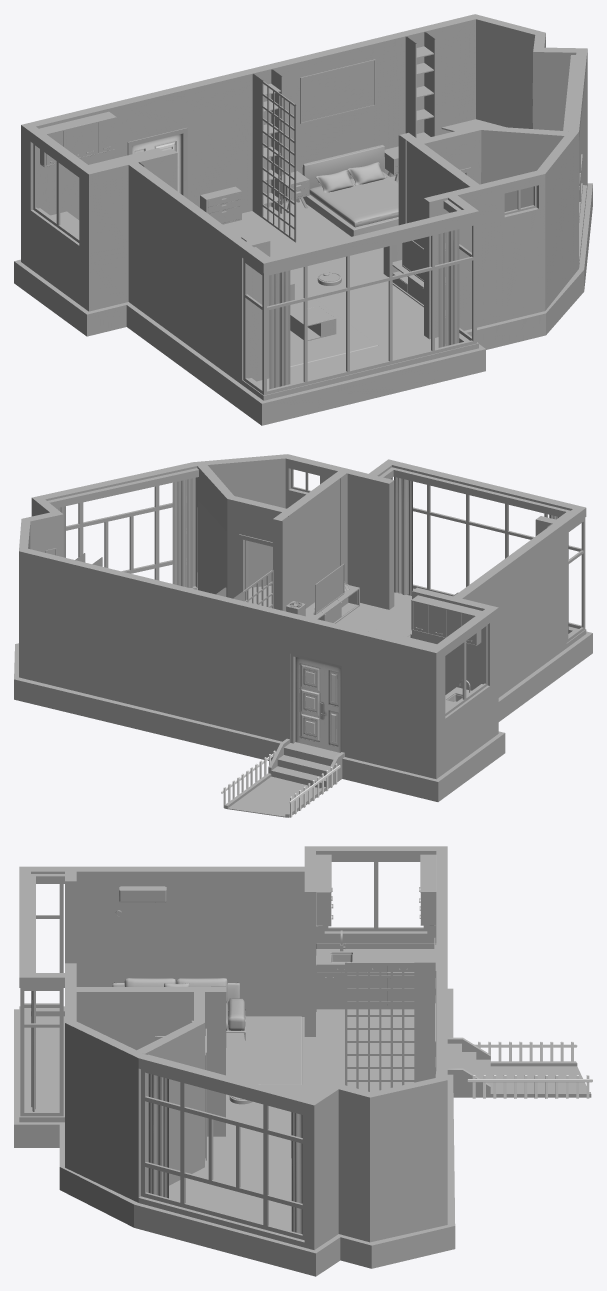
The picture shows the model from 3 angles, top to bottom: view 1: azimuth 30°, elevation 25°; view 2: azimuth 150°, elevation 25°; view 3: azimuth 270°, elevation 25°; orthographic projection. The views are drawn at different scales.
Visible parts, largest first — view 1: polySurface177, polySurface180, polySurface189, XiaoMi_156, polySurface171, polySurface190, ChuangKuang, Chuang, polySurface185, XiaoMi_181, MuGui, polySurface187 (+14 smaller); view 2: polySurface189, polySurface180, polySurface177, XiaoMi_156, ChuangKuang, polySurface187, polySurface185, KongQiJingHuaQi, XiaoMi_147, ChuangLian_ZhuangShi, ChuangLian, ChuangLian1 (+9 smaller); view 3: polySurface177, polySurface180, polySurface171, XiaoMi_156, ChuangKuang, polySurface187, polySurface185, XiaoMi_147, DiTan, GuiZi_GuiTi, MuZhaLan, Wood_ZhuangShi (+14 smaller).
Part boxes in pixels (x1=…): polySurface177: x1=258, y1=14, x2=587, y2=400; polySurface180: x1=26, y1=126, x2=270, y2=396; polySurface189: x1=21, y1=14, x2=475, y2=265; XiaoMi_156: x1=14, y1=183, x2=592, y2=425; polySurface171: x1=223, y1=176, x2=438, y2=389; polySurface190: x1=272, y1=36, x2=405, y2=174; ChuangKuang: x1=33, y1=105, x2=582, y2=395; Chuang: x1=302, y1=145, x2=398, y2=236; polySurface185: x1=419, y1=125, x2=567, y2=211; XiaoMi_181: x1=300, y1=59, x2=375, y2=123; MuGui: x1=252, y1=69, x2=282, y2=217; polySurface187: x1=400, y1=132, x2=479, y2=248; polySurface189: x1=19, y1=548, x2=441, y2=779; polySurface180: x1=412, y1=509, x2=581, y2=775; polySurface177: x1=19, y1=454, x2=586, y2=636; XiaoMi_156: x1=14, y1=631, x2=592, y2=801; ChuangKuang: x1=66, y1=469, x2=585, y2=715; polySurface187: x1=273, y1=471, x2=346, y2=610; polySurface185: x1=197, y1=465, x2=286, y2=598; KongQiJingHuaQi: x1=286, y1=601, x2=341, y2=752; XiaoMi_147: x1=224, y1=738, x2=344, y2=817; ChuangLian_ZhuangShi: x1=47, y1=467, x2=570, y2=519; ChuangLian: x1=172, y1=478, x2=192, y2=587; ChuangLian1: x1=394, y1=477, x2=412, y2=595; polySurface177: x1=19, y1=866, x2=447, y2=1249; polySurface180: x1=31, y1=846, x2=436, y2=1031; polySurface171: x1=31, y1=1009, x2=436, y2=1231; XiaoMi_156: x1=14, y1=988, x2=455, y2=1276; ChuangKuang: x1=20, y1=861, x2=427, y2=1240; polySurface187: x1=76, y1=987, x2=226, y2=1131; polySurface185: x1=137, y1=992, x2=204, y2=1191; XiaoMi_147: x1=447, y1=1037, x2=591, y2=1097; DiTan: x1=226, y1=1016, x2=302, y2=1084; GuiZi_GuiTi: x1=316, y1=854, x2=414, y2=1011; MuZhaLan: x1=345, y1=962, x2=414, y2=1091; Wood_ZhuangShi: x1=76, y1=871, x2=304, y2=1016.
Bounding box in the file's own units: 10.98 × 3.25 × 10.15.
Materials: 30 (1 with a texture image).
